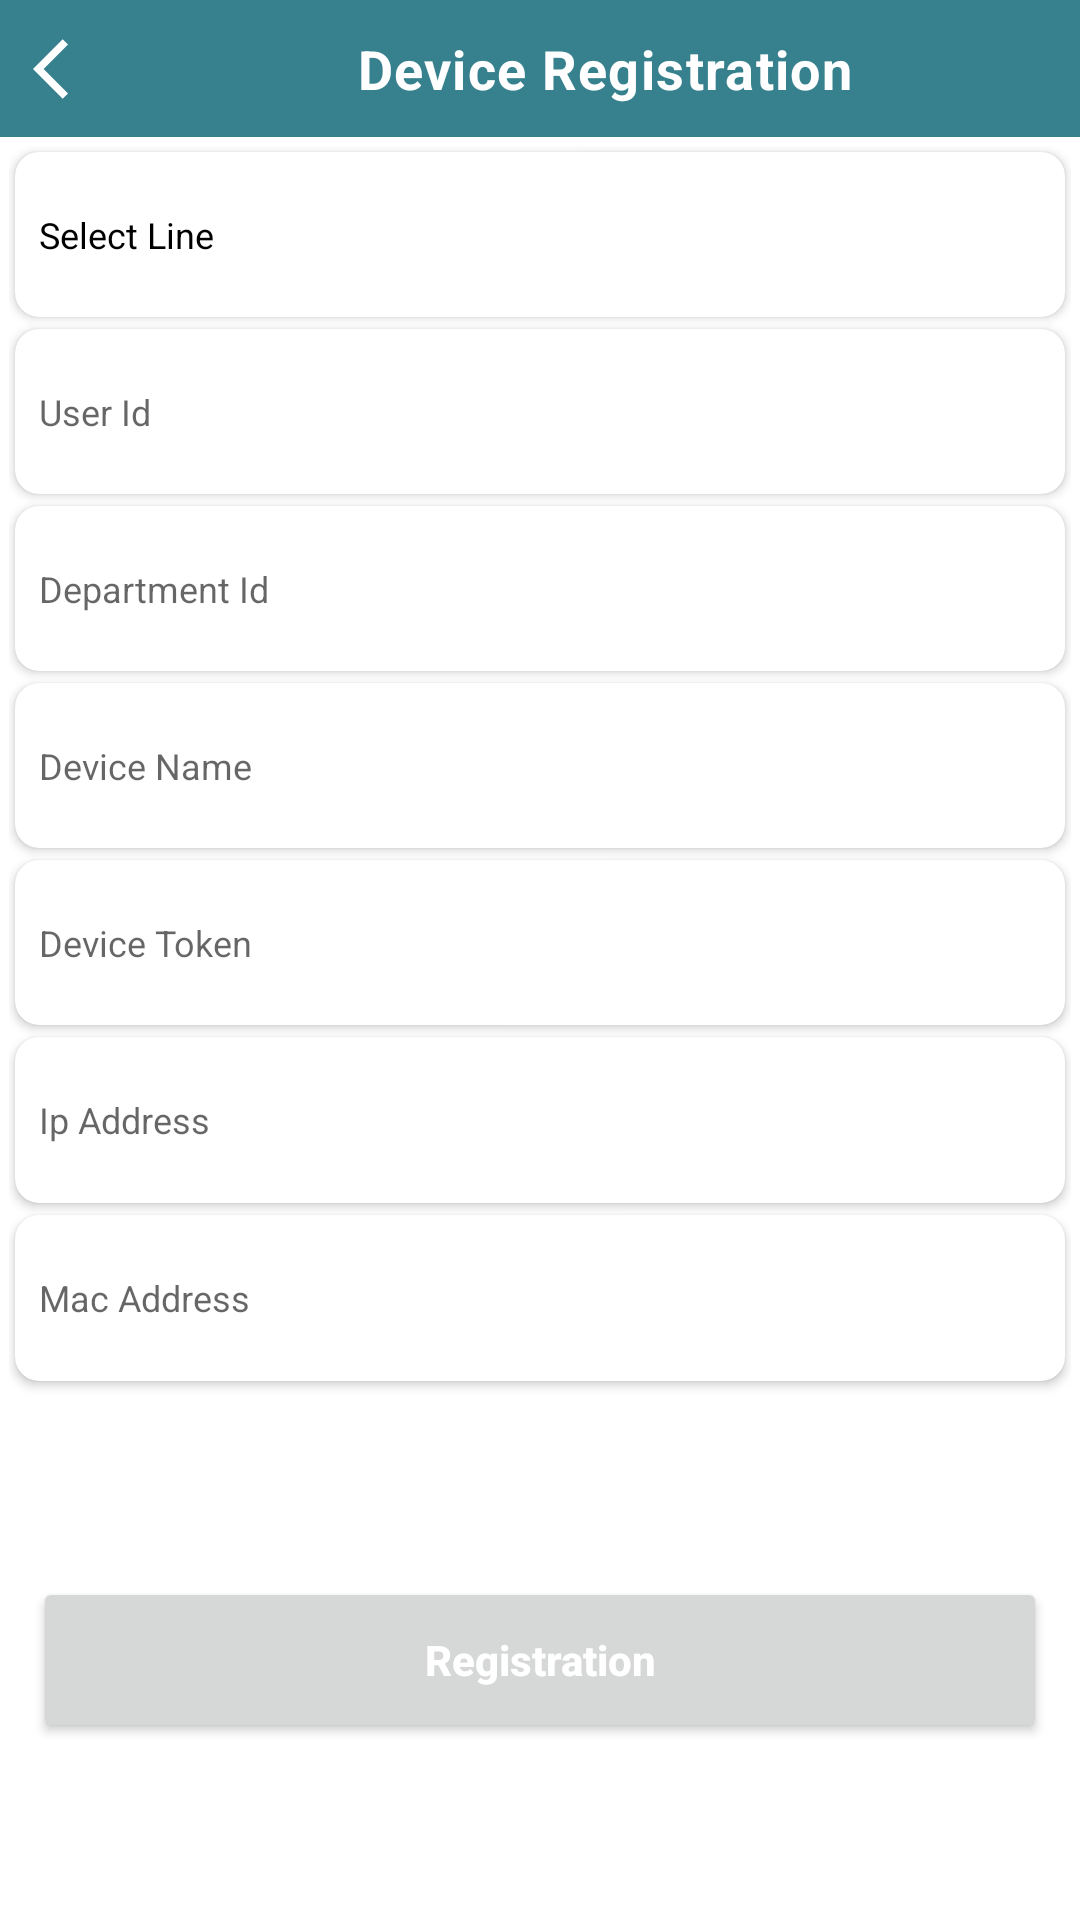

Where icons sit on this 1080 x 1920 app screen, as (x1, y1, x2, y2):
arrow back: (33, 39, 68, 99)
